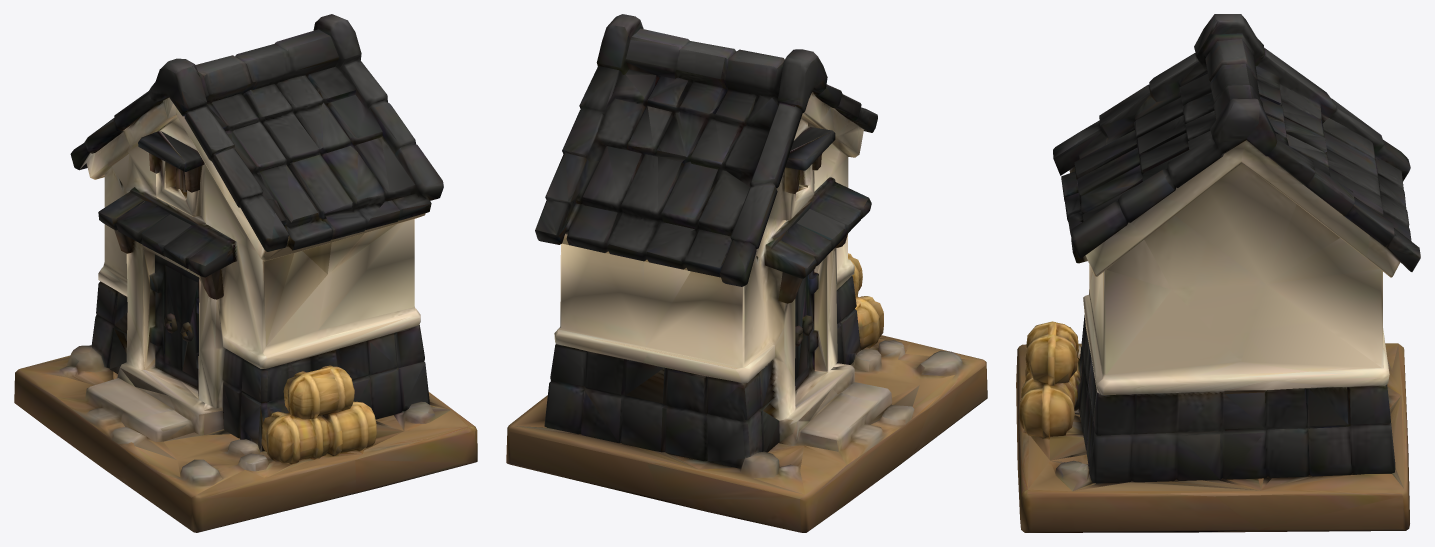
Rendered from kura.glb.
3 renders of one model, left to right at view 1: azimuth 30°, elevation 25°; view 2: azimuth 150°, elevation 25°; view 3: azimuth 270°, elevation 25°, orthographic. The views are drawn at different scales.
Visible parts, largest first — view 1: tripo_node_2da24eb2-7fb1-4993-8e93-253c6680f083; view 2: tripo_node_2da24eb2-7fb1-4993-8e93-253c6680f083; view 3: tripo_node_2da24eb2-7fb1-4993-8e93-253c6680f083.
Boxes of the visible parts, <box> form: tripo_node_2da24eb2-7fb1-4993-8e93-253c6680f083: <box>14,14,477,532</box>; tripo_node_2da24eb2-7fb1-4993-8e93-253c6680f083: <box>506,14,987,532</box>; tripo_node_2da24eb2-7fb1-4993-8e93-253c6680f083: <box>1016,14,1420,532</box>.
Bounding box in the file's own units: 0.7895 × 0.9793 × 0.8757.
1 material, 1 textured.
